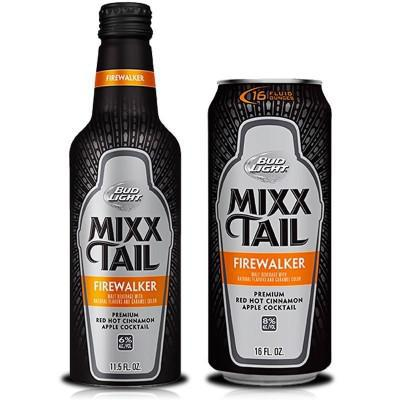beer: (66, 1, 339, 384)
